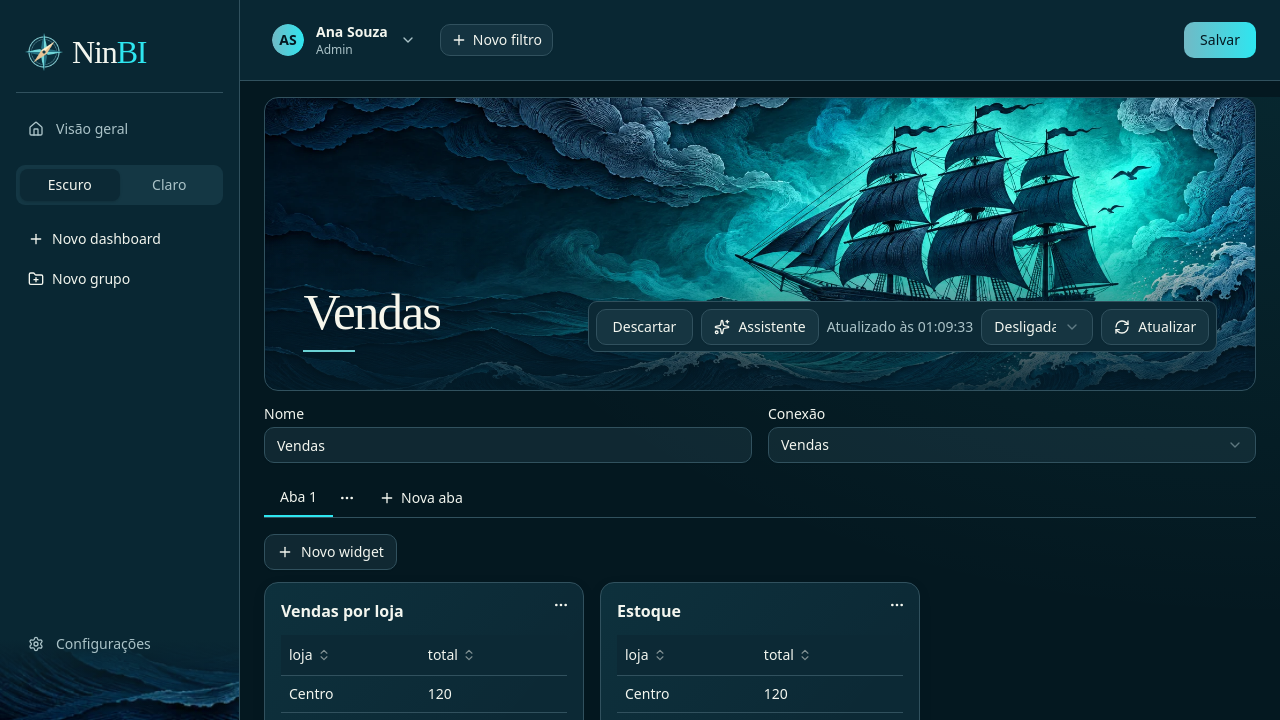
Scenario: WidgetCard em edição › WDG-01 Editar widget no menu do card abre o editor com os dados do widget
Step 1. Click the button named "Ações do widget Vendas por loja" → {"x": 561, "y": 605}, box [547, 591, 575, 619]
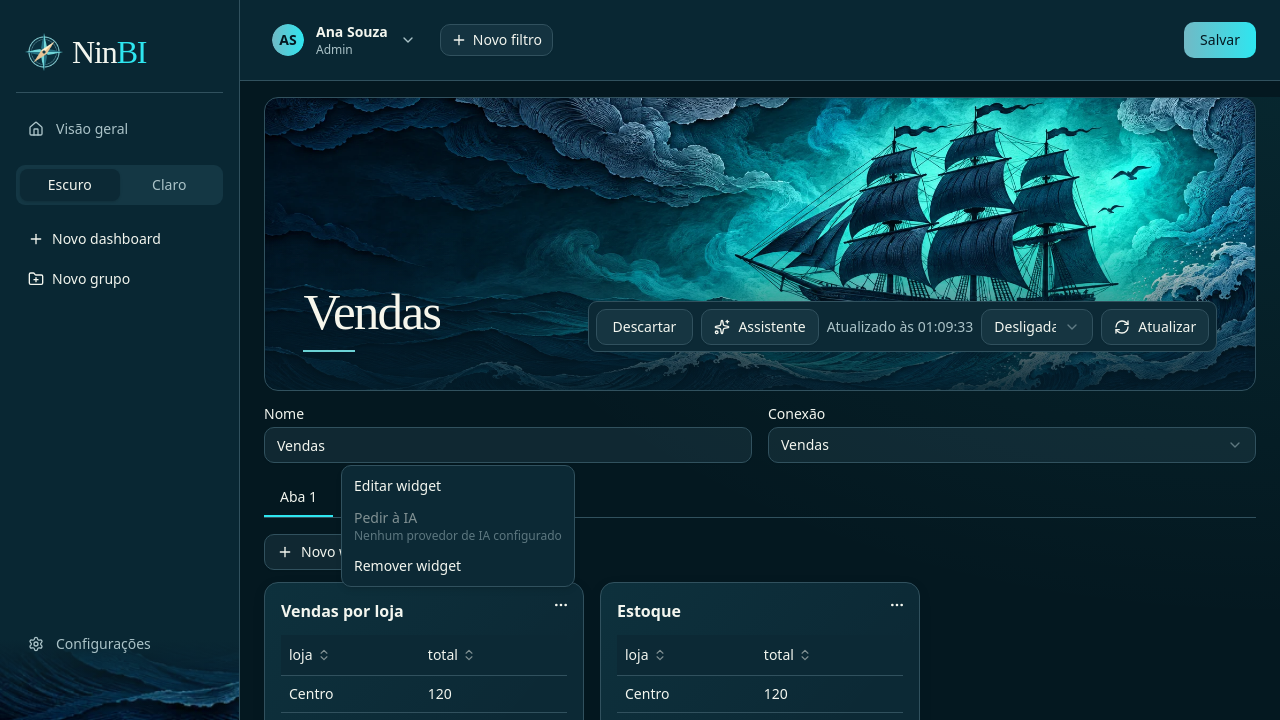
Step 2. Click the menu item "Editar widget" → {"x": 398, "y": 486}, box [354, 476, 441, 495]
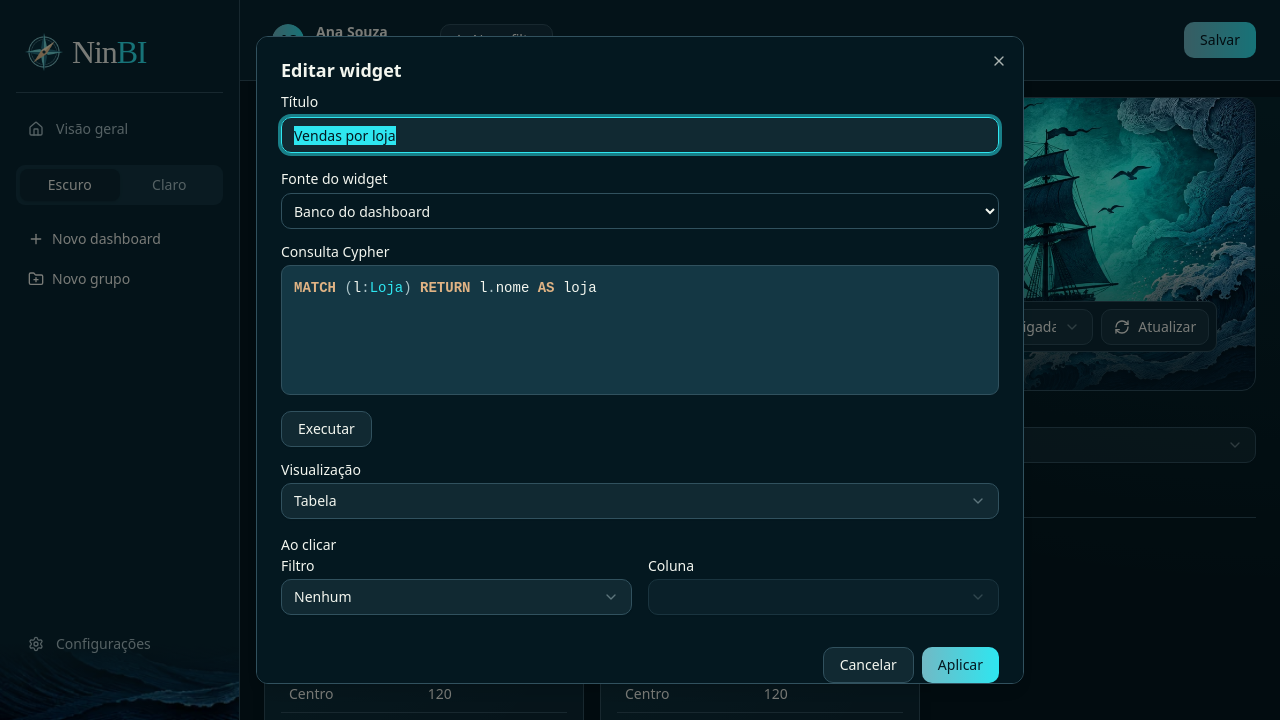
Now the field labelled "Título" holds "Vendas por loja", box [281, 117, 999, 153]
Now the text box labelled "Consulta Cypher" holds "MATCH (l:Loja) RETURN l.nome AS loja", box [282, 266, 998, 394]
